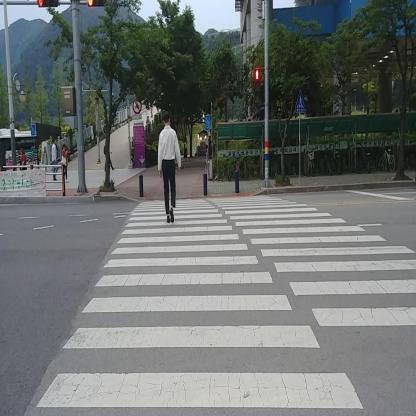Red: (254, 68, 260, 104)
